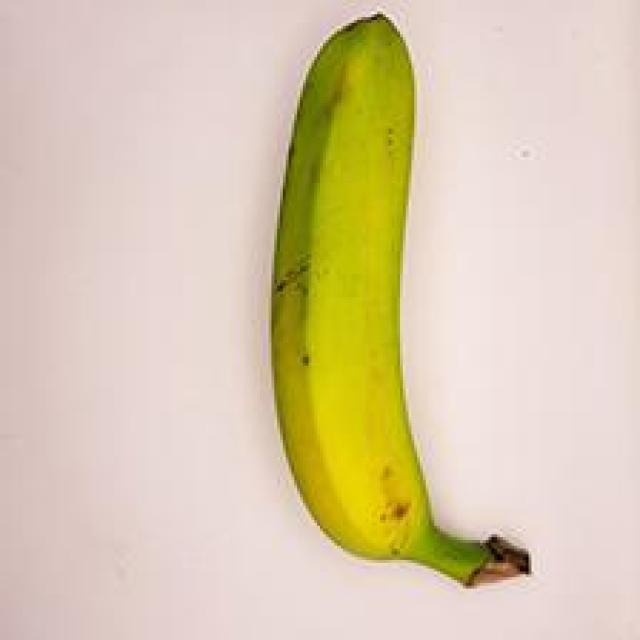Unripe: (242, 8, 549, 592)
